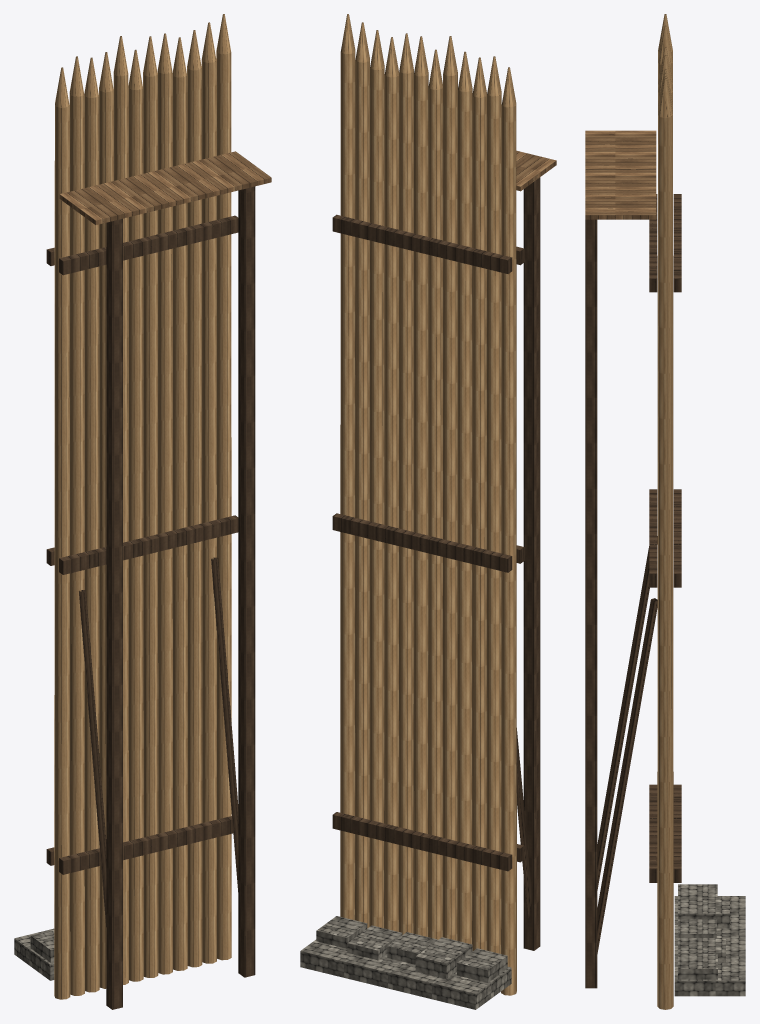
Rendered from Rampart_Wood_New_1.gltf.
3 views of the same model, side by side, from view 1: azimuth 30°, elevation 25°; view 2: azimuth 150°, elevation 25°; view 3: azimuth 270°, elevation 25° (orthographic).
Parts seen in each view (by area): view 1: Rampart_Wood_New_1; view 2: Rampart_Wood_New_1; view 3: Rampart_Wood_New_1.
Boxes of the visible parts, left/top/right/bottom form: Rampart_Wood_New_1: left=14, top=14, right=271, bottom=1009; Rampart_Wood_New_1: left=300, top=14, right=556, bottom=1009; Rampart_Wood_New_1: left=585, top=14, right=745, bottom=1009.
Bounding box in the file's own units: 4 × 20.5 × 3.2.
4 materials, 4 textured.
